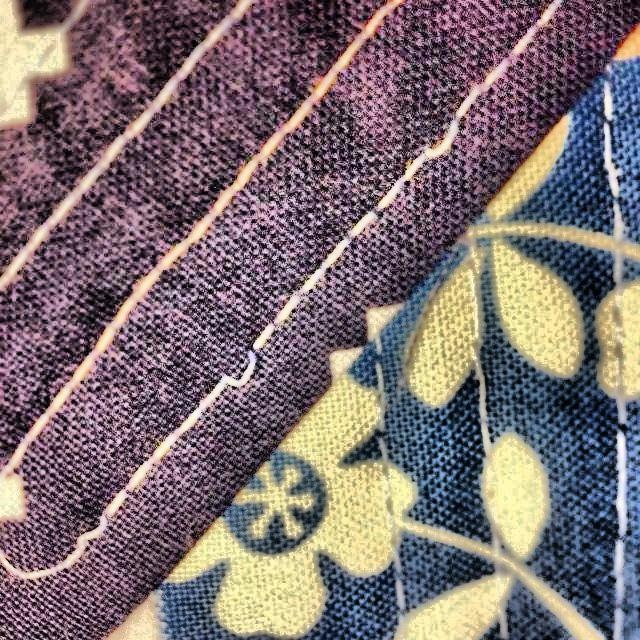Stitch: (369, 67, 509, 218), (178, 290, 310, 426)
